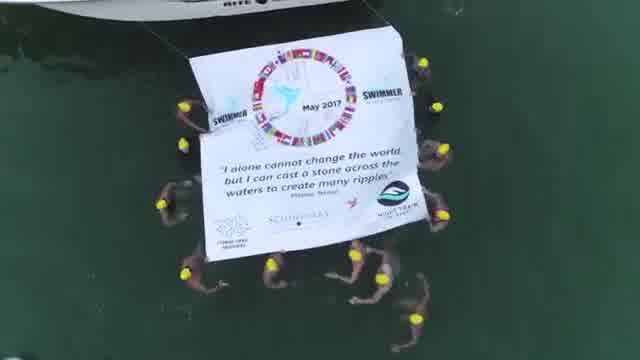swimmer: (382, 267, 440, 354), (169, 234, 230, 296), (360, 241, 400, 304), (151, 176, 196, 231), (416, 182, 454, 230), (409, 133, 454, 172), (322, 241, 360, 285), (404, 45, 435, 94), (256, 251, 290, 290), (172, 94, 206, 131)
